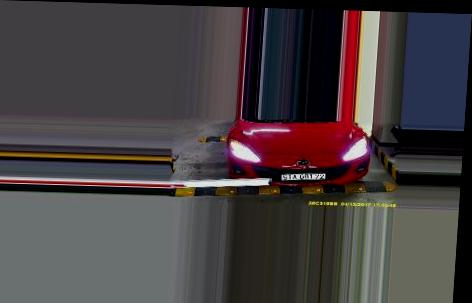License_Plate: (280, 173, 327, 183)
